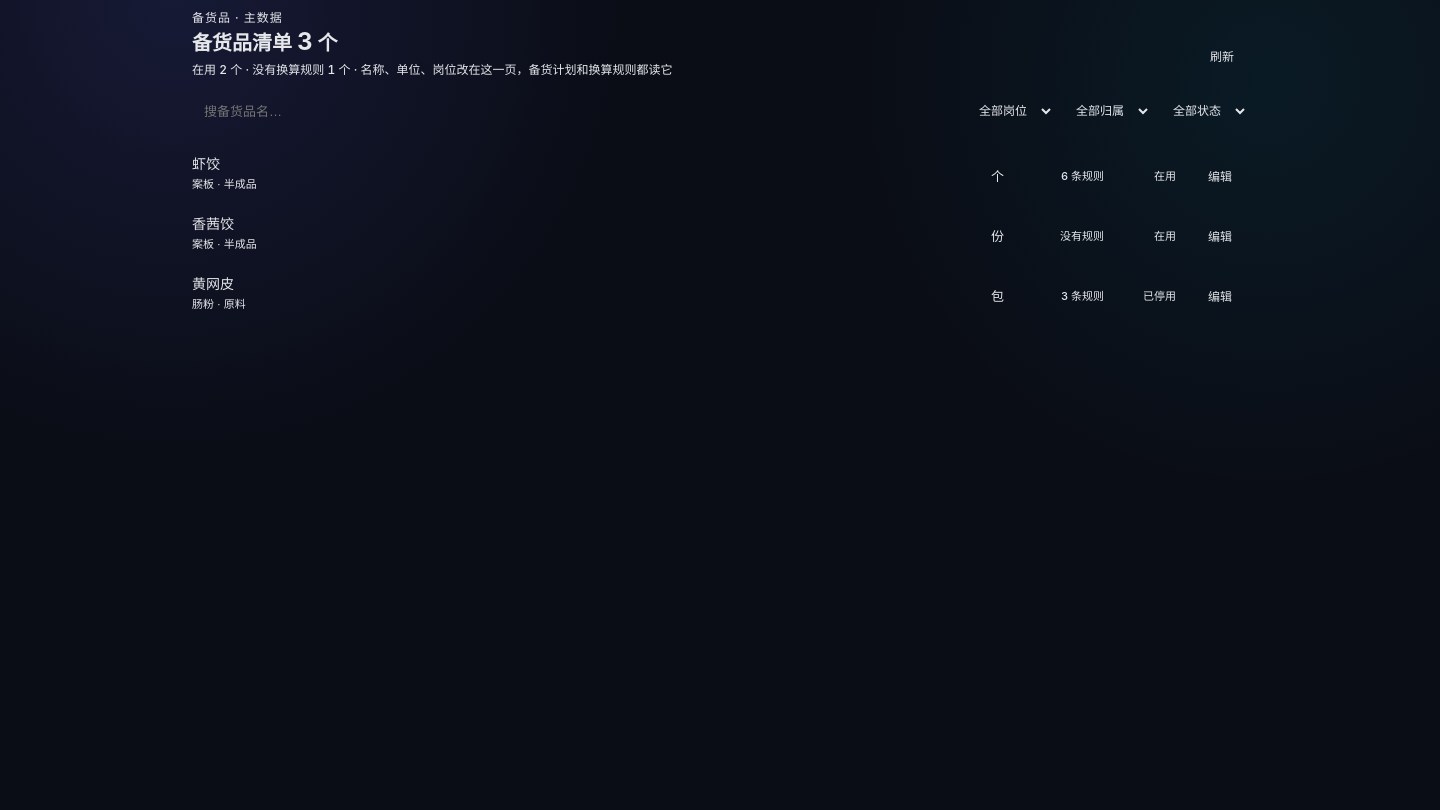
Test case: 编辑 › 重名被后端拒绝时把错误显示在表单里，不关面板
Click the button "编辑" in the row of "没有规则". click: (1220, 235)
box: x1=1192 y1=213 x2=1248 y2=257
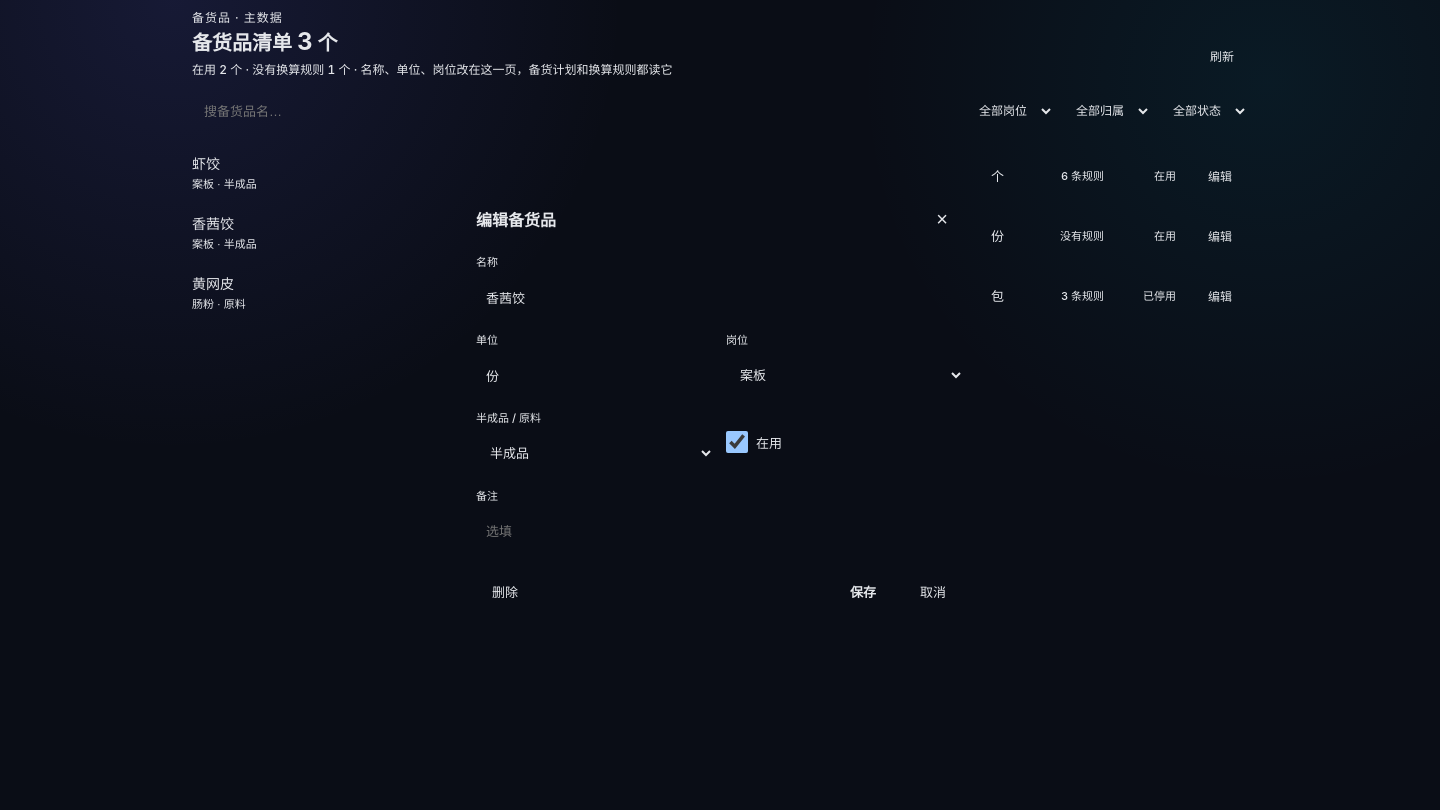
Replace the text in the field labelled "名称" with "虾饺". click: (720, 297)
box: x1=476 y1=275 x2=964 y2=319
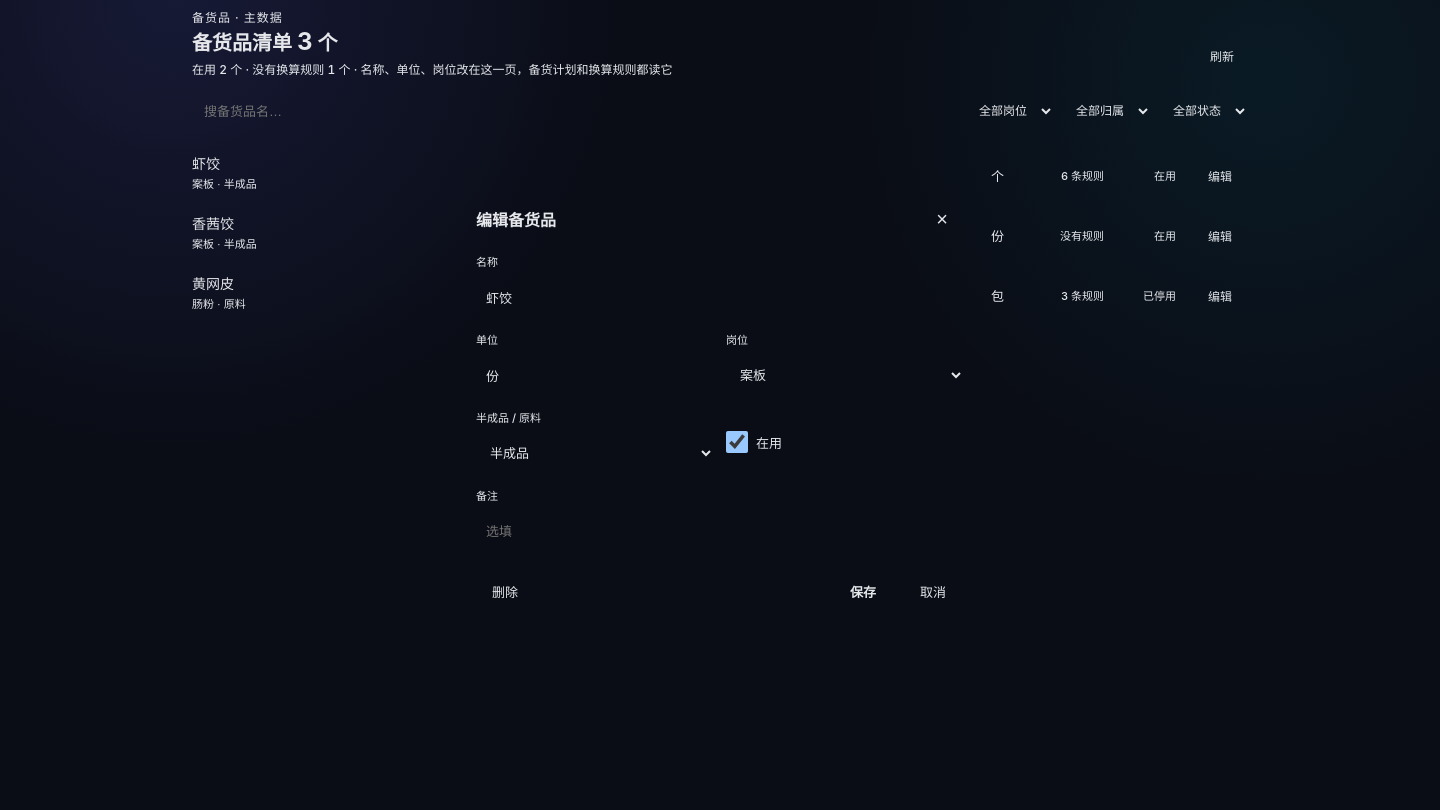
Submit the dialog, box x1=460 y1=181 x2=980 y2=629
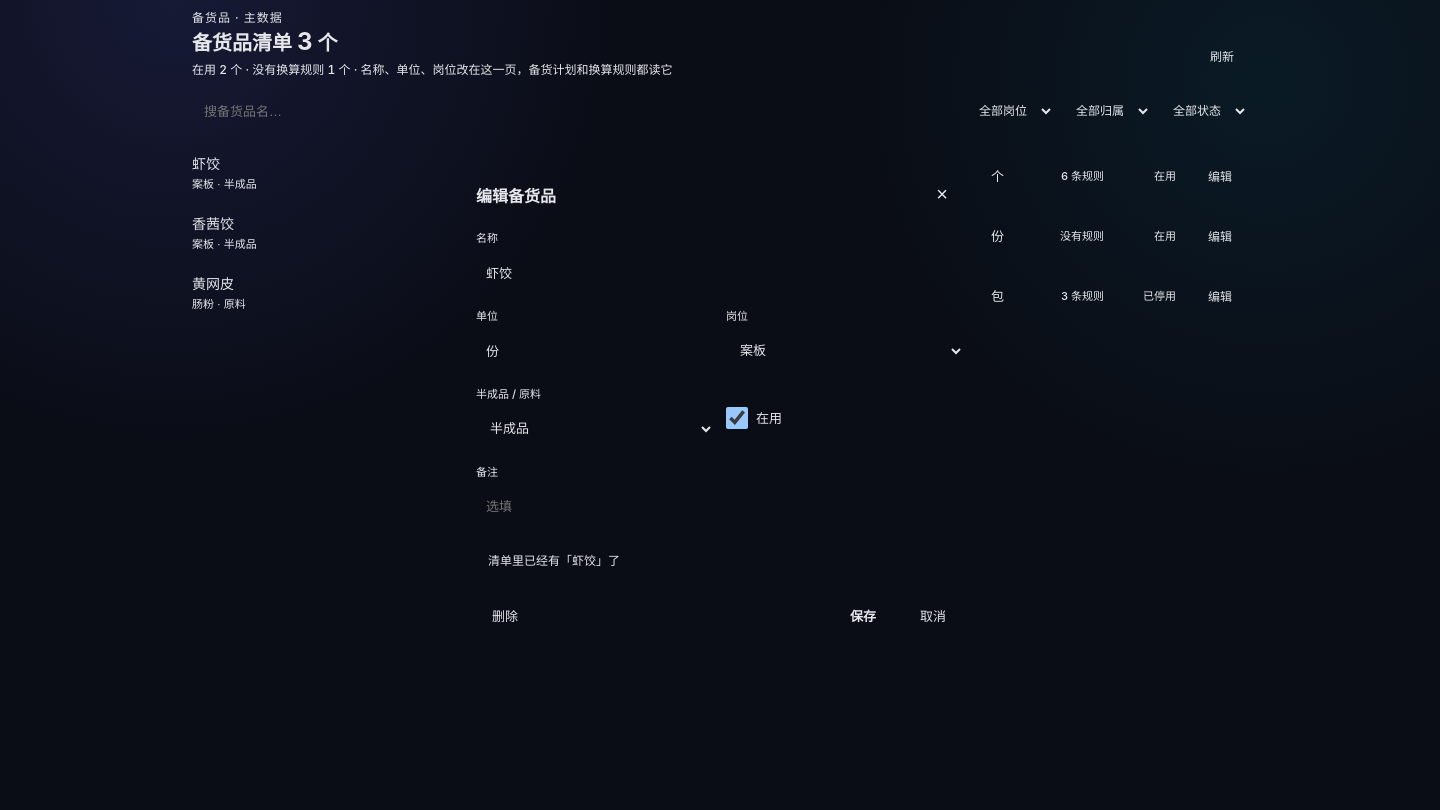
Expected: the dialog is shown, x1=460 y1=156 x2=980 y2=654
Expected: the text "清单里已经有「虾饺」了" is shown, x1=488 y1=552 x2=620 y2=568
